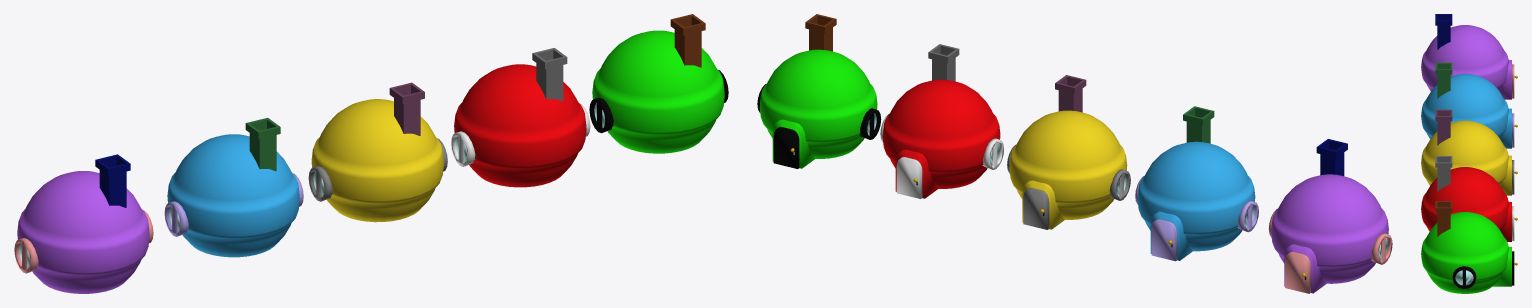
Rendered from Lollipop House.2.fbx.
3 renders of one model, left to right at view 1: azimuth 30°, elevation 25°; view 2: azimuth 150°, elevation 25°; view 3: azimuth 270°, elevation 25°, orthographic. The views are drawn at different scales.
Visible parts, largest first — view 1: Lollipop.002, Lollipop, Lollipop.003, Lollipop.004, Lollipop.001, Janela.003, Janela.1, Janela.005, Janela.009, Janela.007; view 2: Lollipop.003, Lollipop.001, Lollipop.002, Lollipop, Lollipop.004, Janela.009, Janela.003, Janela.005, Janela.007, Janela.1; view 3: Lollipop.002, Lollipop.004, Lollipop.003, Lollipop.001, Lollipop, Janela.006.
Part boxes in pixels (x1,y1,x2,y2): Lollipop.002: (592,14,724,153); Lollipop: (454,48,586,187); Lollipop.003: (167,117,299,257); Lollipop.004: (17,154,149,293); Lollipop.001: (311,82,443,222); Janela.003: (308,166,332,201); Janela.1: (451,131,475,166); Janela.005: (589,97,613,133); Janela.009: (14,238,38,273); Janela.007: (164,201,188,236); Lollipop.003: (1137,106,1255,261); Lollipop.001: (1009,75,1127,229); Lollipop.002: (759,14,877,168); Lollipop: (882,44,1000,198); Lollipop.004: (1271,139,1388,293); Janela.009: (1371,233,1392,264); Janela.003: (1109,169,1130,200); Janela.005: (859,108,881,139); Janela.007: (1237,200,1258,232); Janela.1: (982,138,1003,169); Lollipop.002: (1421,201,1517,293); Lollipop.004: (1421,14,1517,99); Lollipop.003: (1421,62,1517,148); Lollipop.001: (1421,109,1517,195); Lollipop: (1421,156,1517,241); Janela.006: (1452,266,1476,288).
Size of the model in its own units: 1266 by 212 by 229.
